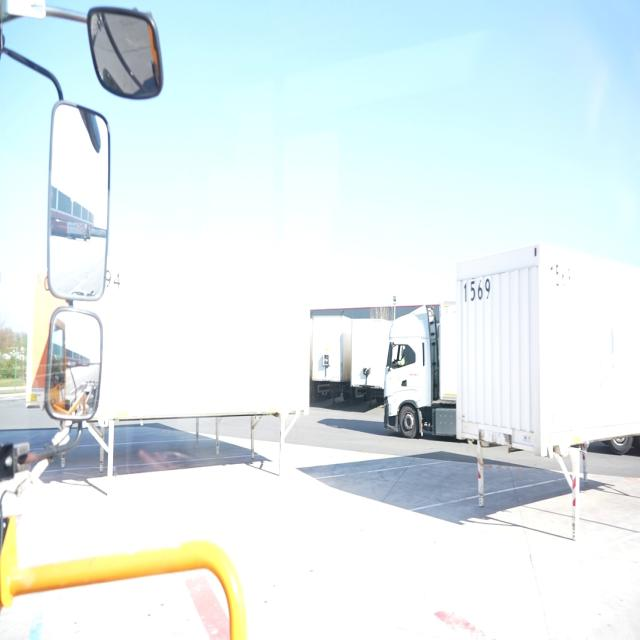Code: (459, 274, 492, 308)
